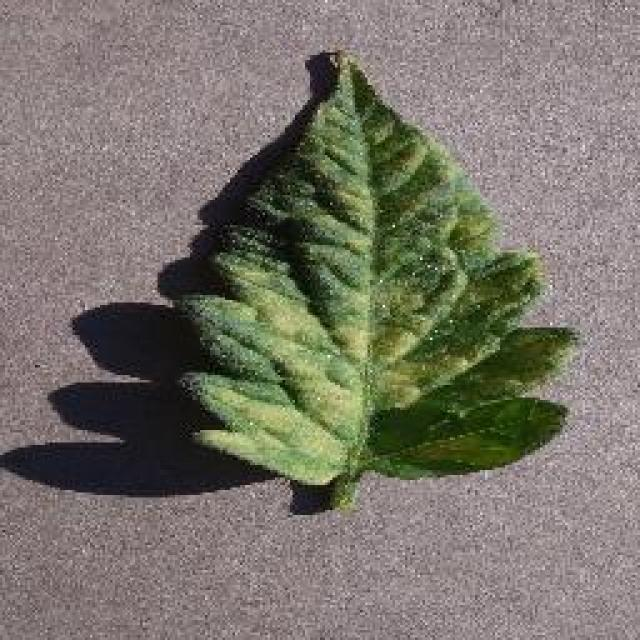Tom_Leaf_Mold: (239, 253, 476, 452)
